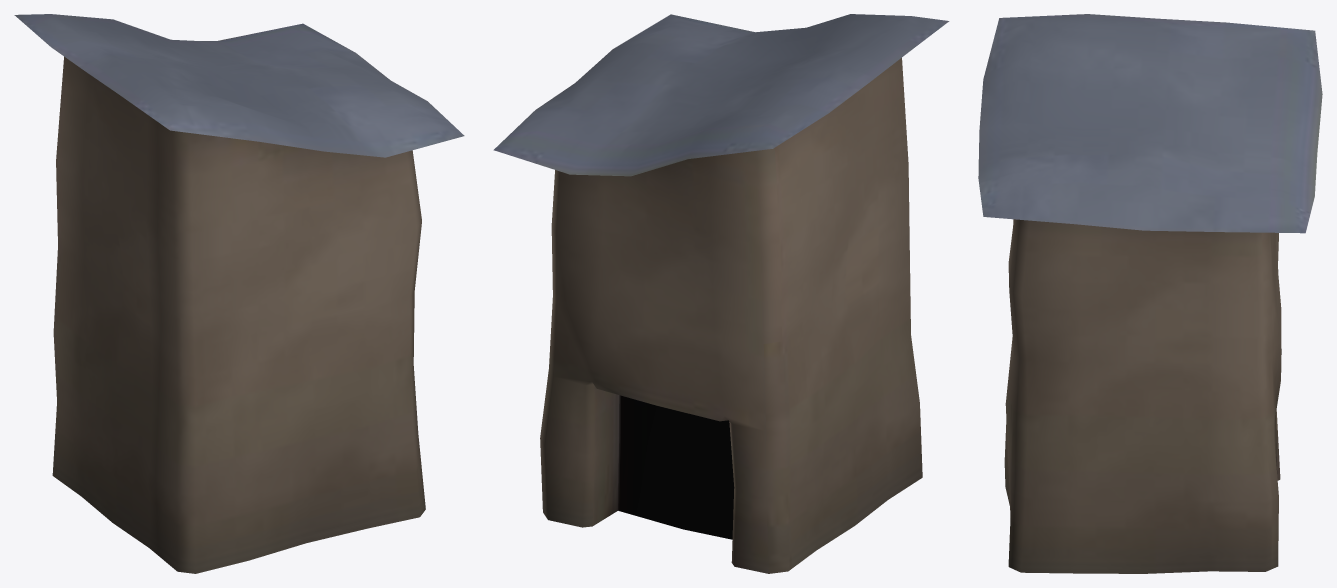
The model's file is MSH_Building_Hole_005.glb.
3 renders of one model, left to right at view 1: azimuth 30°, elevation 25°; view 2: azimuth 150°, elevation 25°; view 3: azimuth 270°, elevation 25°, orthographic. The views are drawn at different scales.
Visible parts, largest first — view 1: Base.018; view 2: Base.018; view 3: Base.018.
Boxes of the visible parts, x1,y1,x2,y2 form: Base.018: (14,14,464,573); Base.018: (493,14,949,573); Base.018: (978,14,1322,573).
Size of the model in its own units: 6.27 by 9.11 by 6.47.
Materials: 1 (1 with a texture image).
